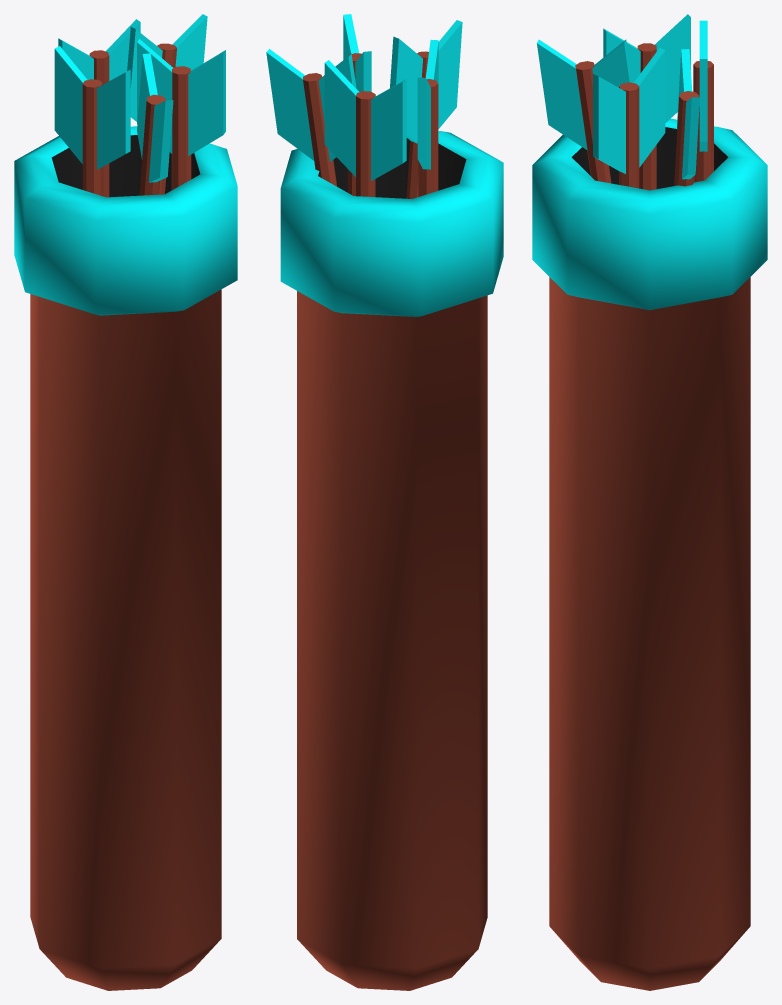
Rendered from PickupArrowIce.dae.
3 views of the same model, side by side, from view 1: azimuth 30°, elevation 25°; view 2: azimuth 150°, elevation 25°; view 3: azimuth 270°, elevation 25° (orthographic).
Parts seen in each view (by area): view 1: ArrowsPickupIce; view 2: ArrowsPickupIce; view 3: ArrowsPickupIce.
Part boxes in pixels (left/top/right/bottom): ArrowsPickupIce: left=14, top=14, right=237, bottom=990; ArrowsPickupIce: left=266, top=14, right=503, bottom=990; ArrowsPickupIce: left=532, top=14, right=767, bottom=990.
Size of the model in its own units: 0.2351 by 0.2336 by 1.01.
